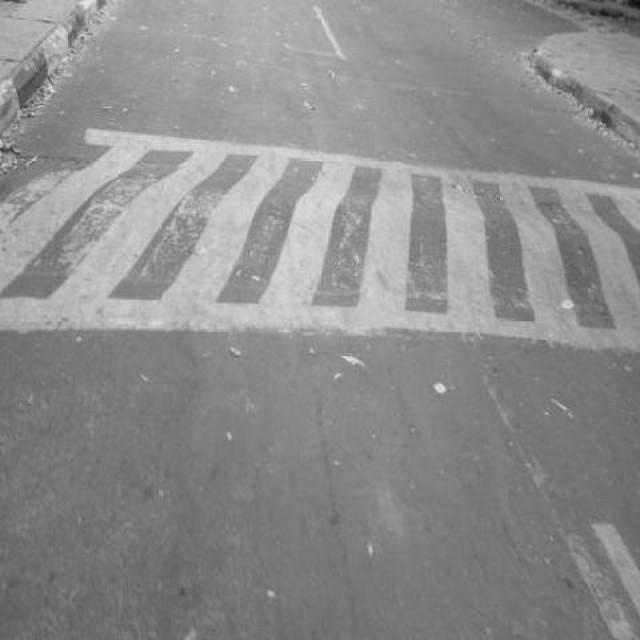Speed Bump: (0, 115, 639, 348)
